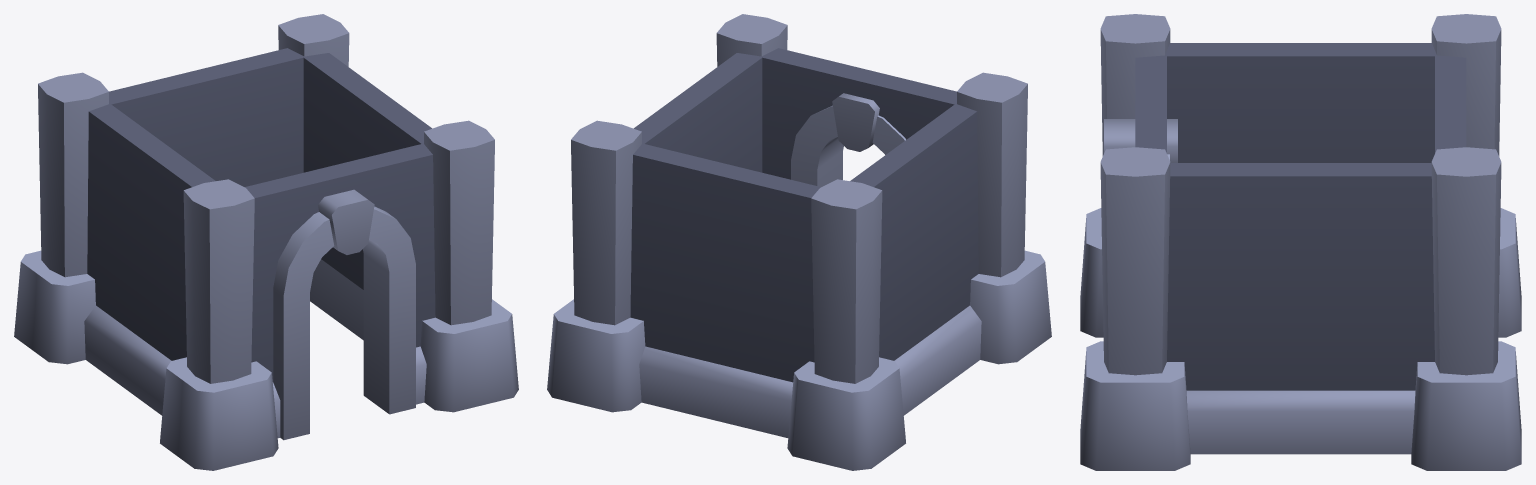
The model's file is crypt-small.glb.
3 renders of one model, left to right at view 1: azimuth 30°, elevation 25°; view 2: azimuth 150°, elevation 25°; view 3: azimuth 270°, elevation 25°, orthographic. The views are drawn at different scales.
Visible parts, largest first — view 1: crypt-small; view 2: crypt-small; view 3: crypt-small.
Boxes of the visible parts, <box> form: crypt-small: <box>14,14,518,470</box>; crypt-small: <box>547,14,1051,470</box>; crypt-small: <box>1080,14,1521,470</box>.
Size of the model in its own units: 1.35 by 1 by 1.4.
